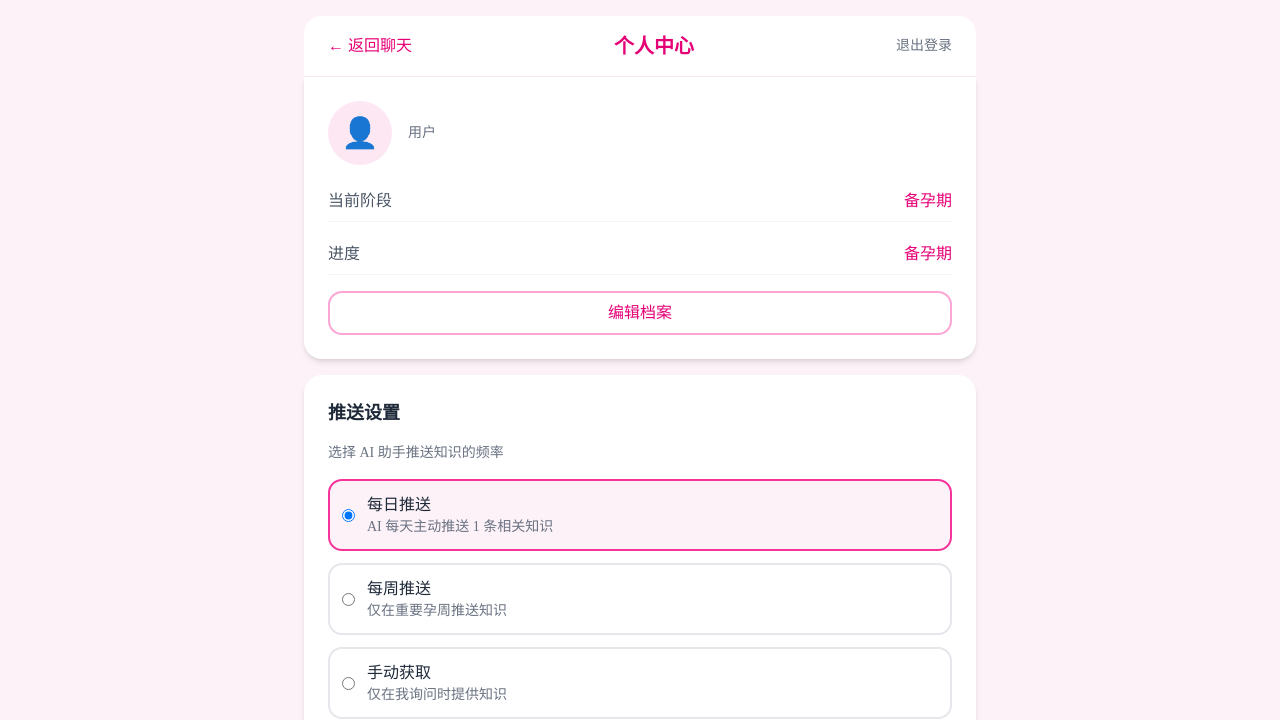
Test case: ProfilePage › 退出登录 › 点击"退出登录"显示确认对话框
Click the button "退出登录": point(924, 46) [896, 36, 952, 56]
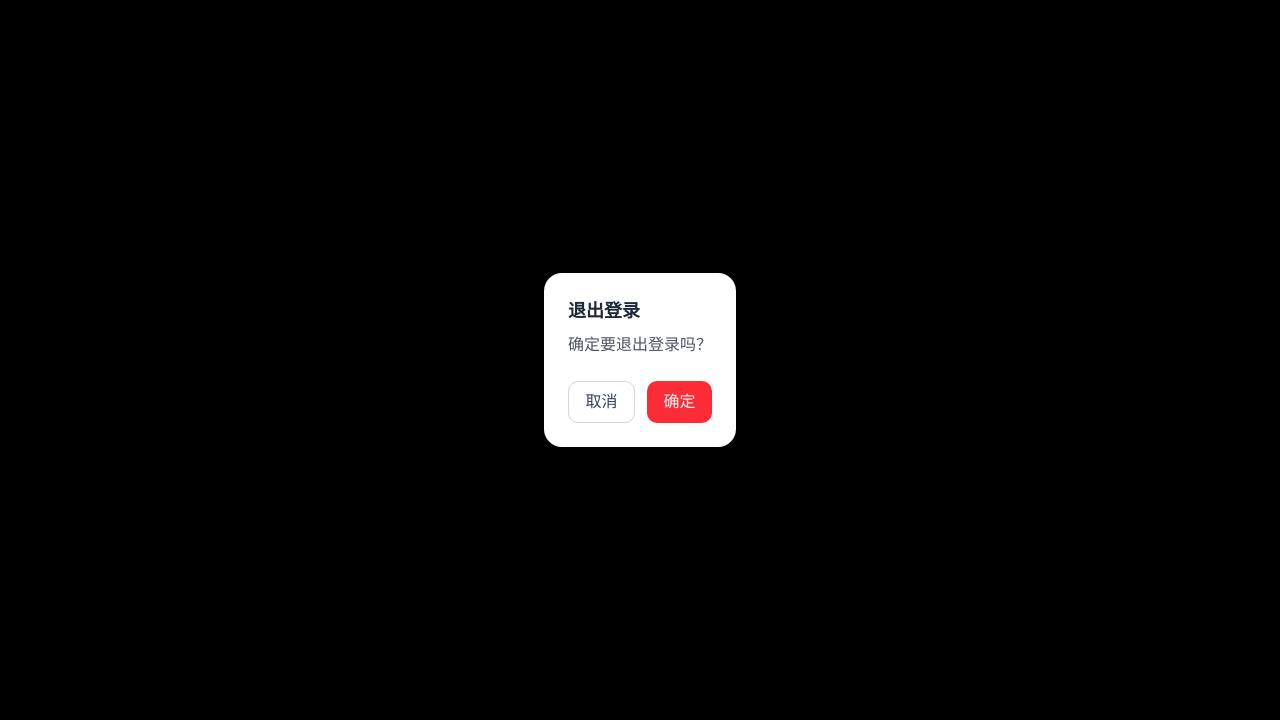
Check: the text "确定要退出登录吗？" is shown, box [568, 333, 712, 357]
